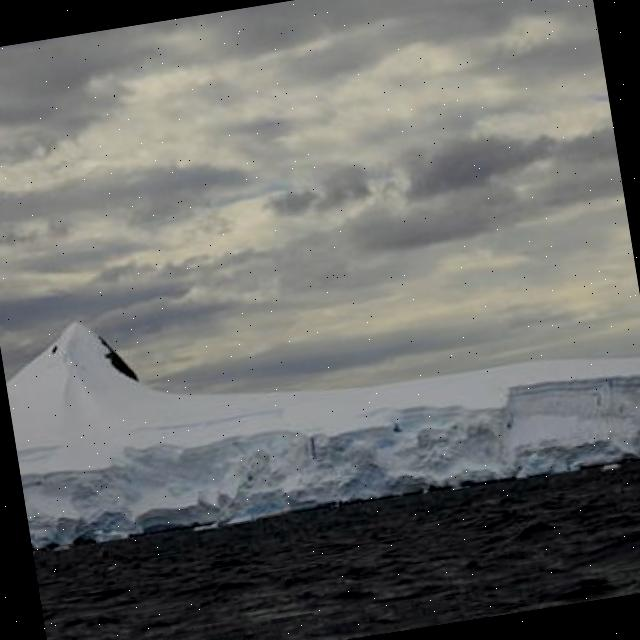Ns: (1, 1, 627, 306)
